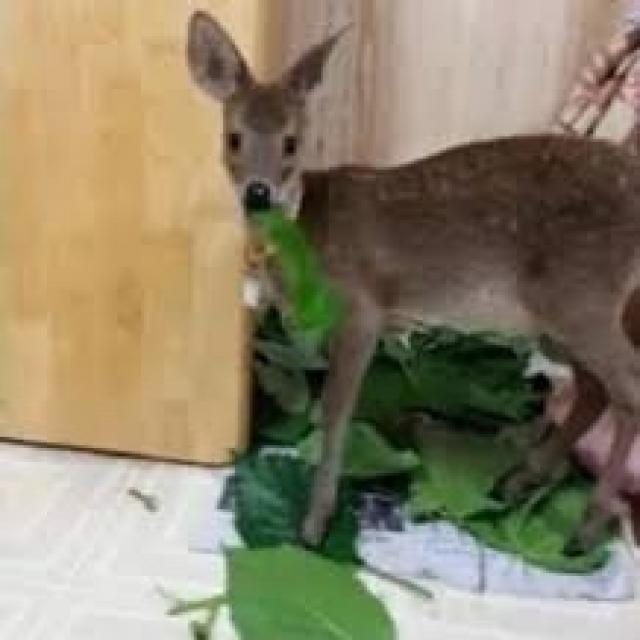elk: (153, 0, 640, 586)
